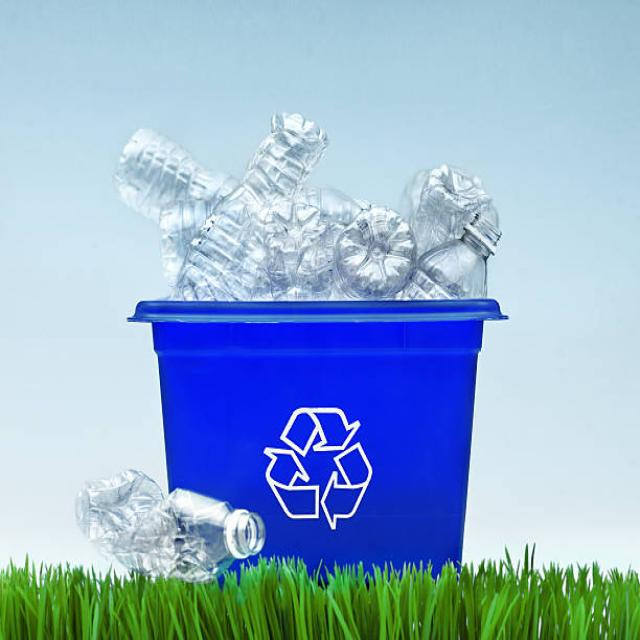plastic: (119, 110, 493, 290)
